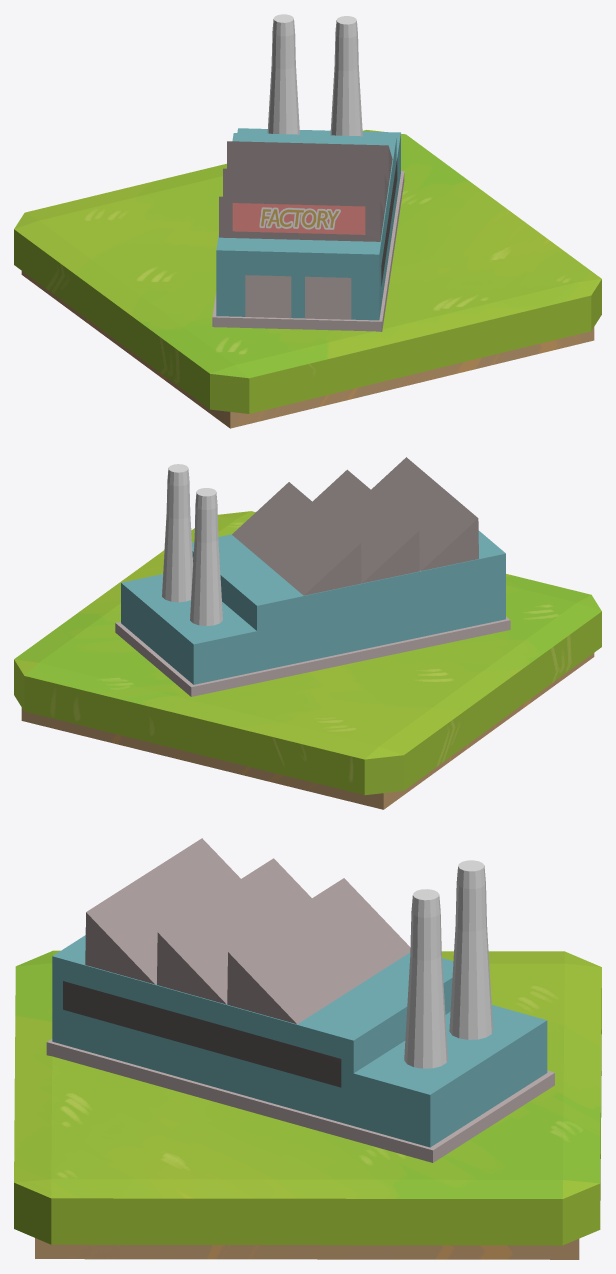
Rendered from factory_new.fbx.
3 views of the same model, one above another, from view 1: azimuth 30°, elevation 25°; view 2: azimuth 150°, elevation 25°; view 3: azimuth 270°, elevation 25° (orthographic). The views are drawn at different scales.
Visible parts, largest first — view 1: Cube.001, Cylinder.003, Cube.003, Plane.003, Cylinder.001, Cube, Cube.005, Cube.004; view 2: Cube.001, Cylinder.003, Cube.003, Cube.004, Cylinder.001, Cube, Cube.005; view 3: Cube.001, Cylinder.003, Cube.003, Cube.004, Cylinder.001, Cube, Plane.003, Cube.005.
Boxes of the visible parts, bbox=[...] form: Cube.001: bbox=[14, 130, 601, 413]; Cylinder.003: bbox=[219, 141, 392, 241]; Cube.003: bbox=[216, 133, 396, 320]; Plane.003: bbox=[232, 158, 397, 319]; Cylinder.001: bbox=[267, 14, 362, 136]; Cube: bbox=[21, 271, 594, 428]; Cube.005: bbox=[212, 171, 404, 331]; Cube.004: bbox=[237, 128, 400, 201]; Cube.001: bbox=[14, 511, 601, 795]; Cylinder.003: bbox=[232, 457, 478, 595]; Cube.003: bbox=[192, 530, 505, 671]; Cube.004: bbox=[121, 574, 256, 684]; Cylinder.001: bbox=[162, 464, 222, 626]; Cube: bbox=[21, 653, 594, 809]; Cube.005: bbox=[115, 616, 510, 696]; Cube.001: bbox=[14, 950, 601, 1245]; Cylinder.003: bbox=[85, 838, 410, 1024]; Cube.003: bbox=[52, 935, 453, 1125]; Cube.004: bbox=[353, 1005, 547, 1147]; Cylinder.001: bbox=[404, 860, 492, 1068]; Cube: bbox=[35, 1238, 579, 1259]; Plane.003: bbox=[63, 981, 341, 1087]; Cube.005: bbox=[46, 1039, 554, 1162].
Size of the model in its own units: 108 by 61.43 by 108.
